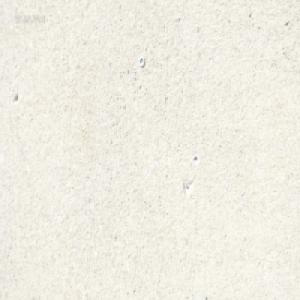Washer: (138, 55, 145, 66)
